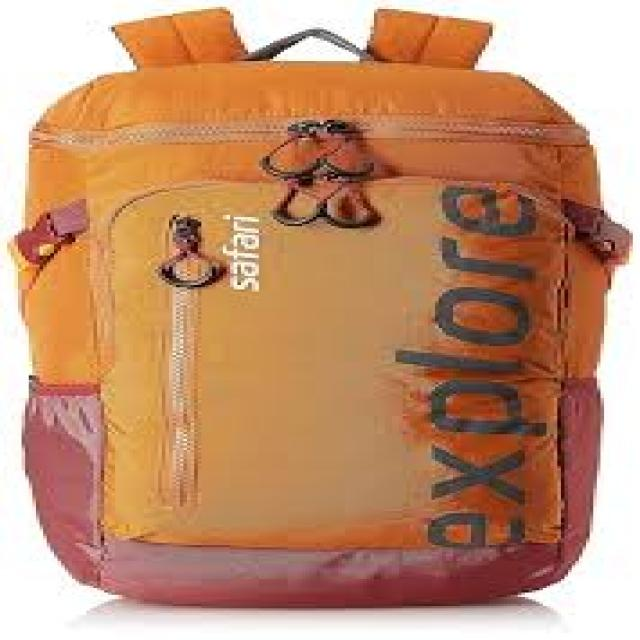backpack: (7, 5, 633, 606)
